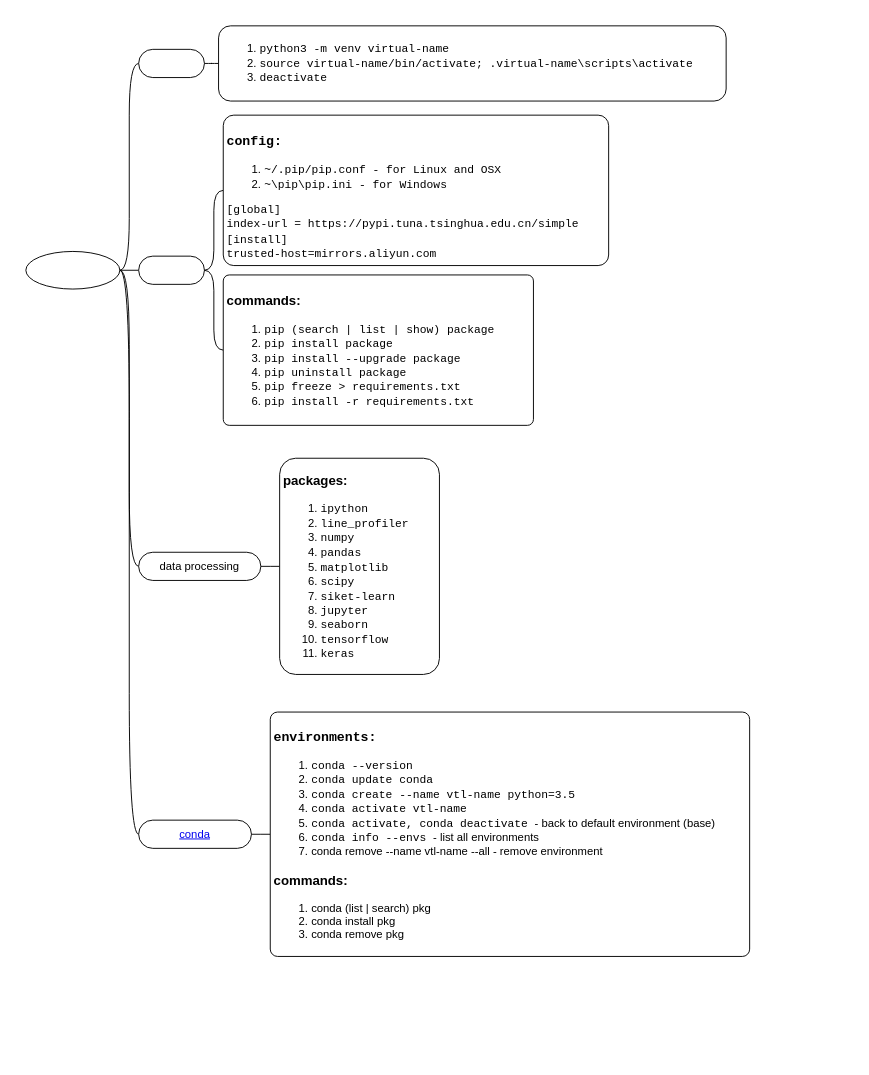
This 869x1075 diagram has some shape labels left out. Each missing label, with the centre of its shape:
environment: point 72,270
pip: point 171,269
venv: point 171,63
